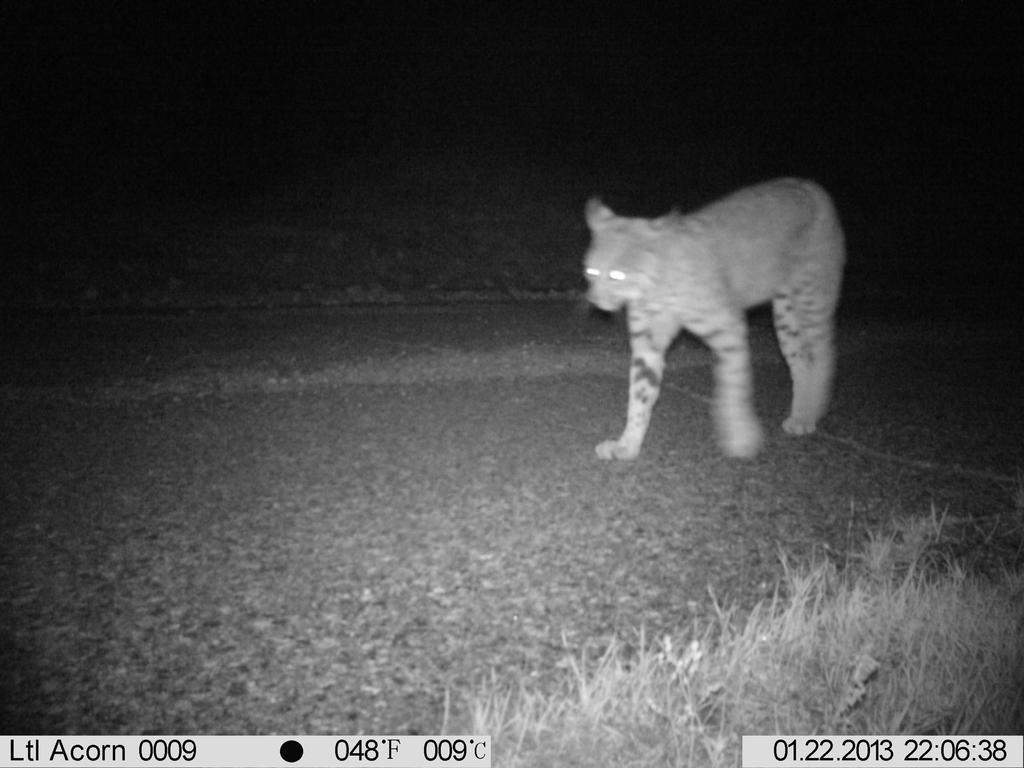bobcat: (561, 154, 854, 475)
